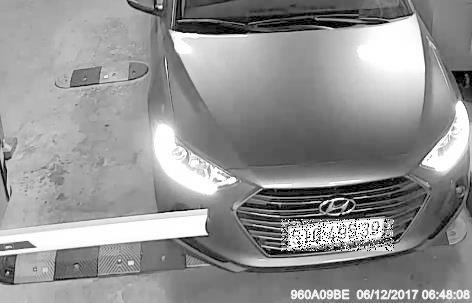License-plate: (283, 220, 396, 252)
